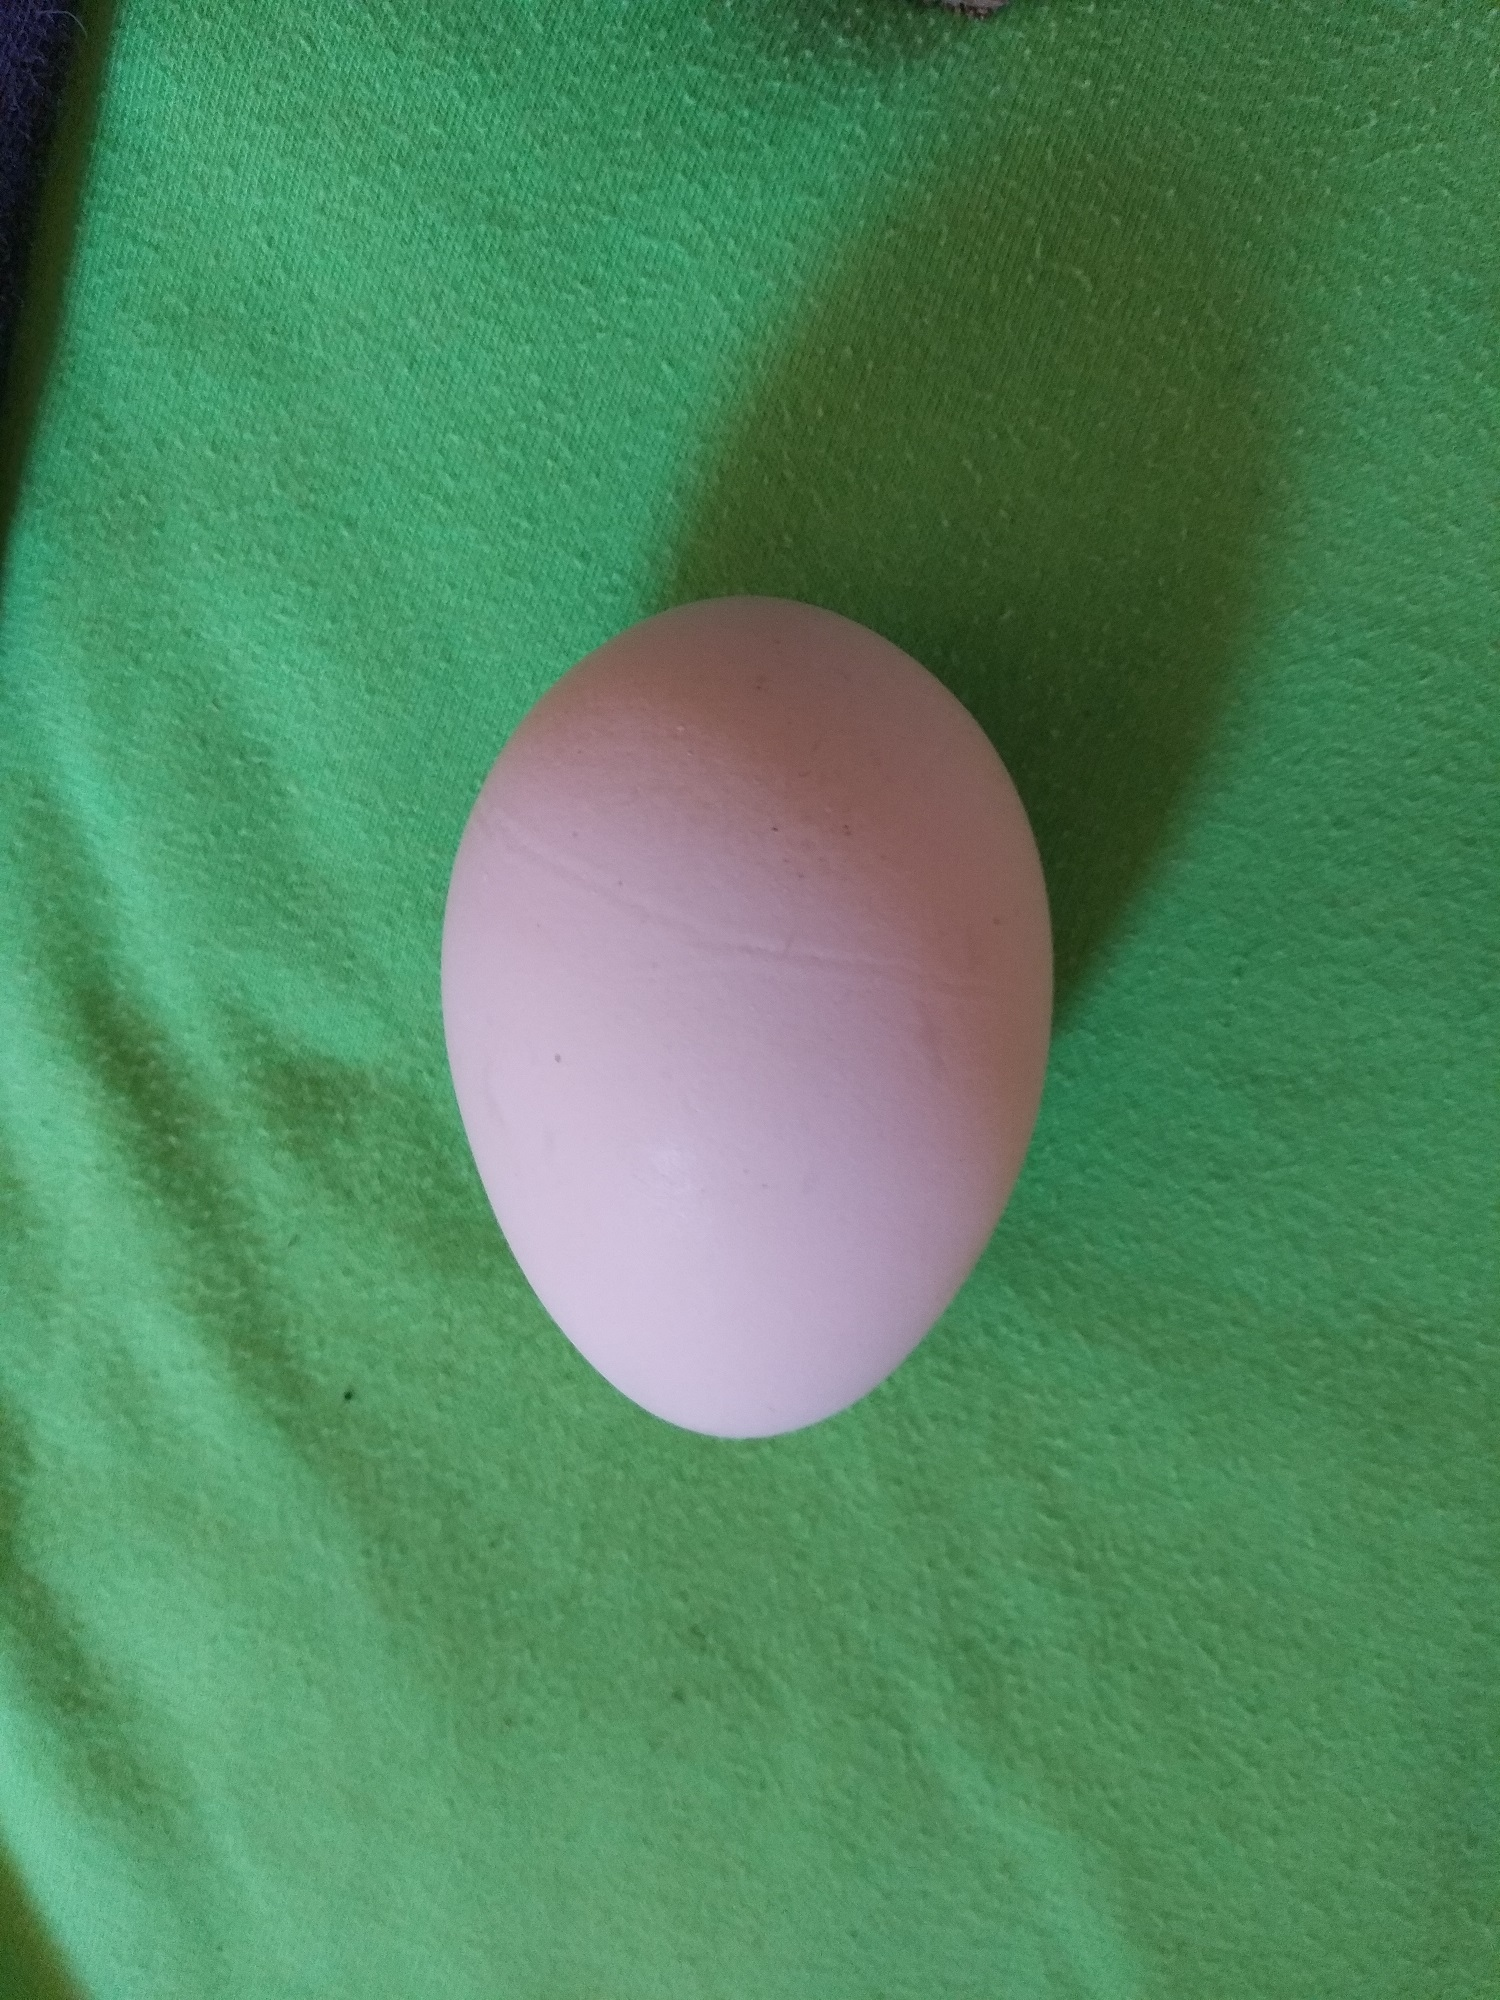Male: (436, 587, 1059, 1444)
